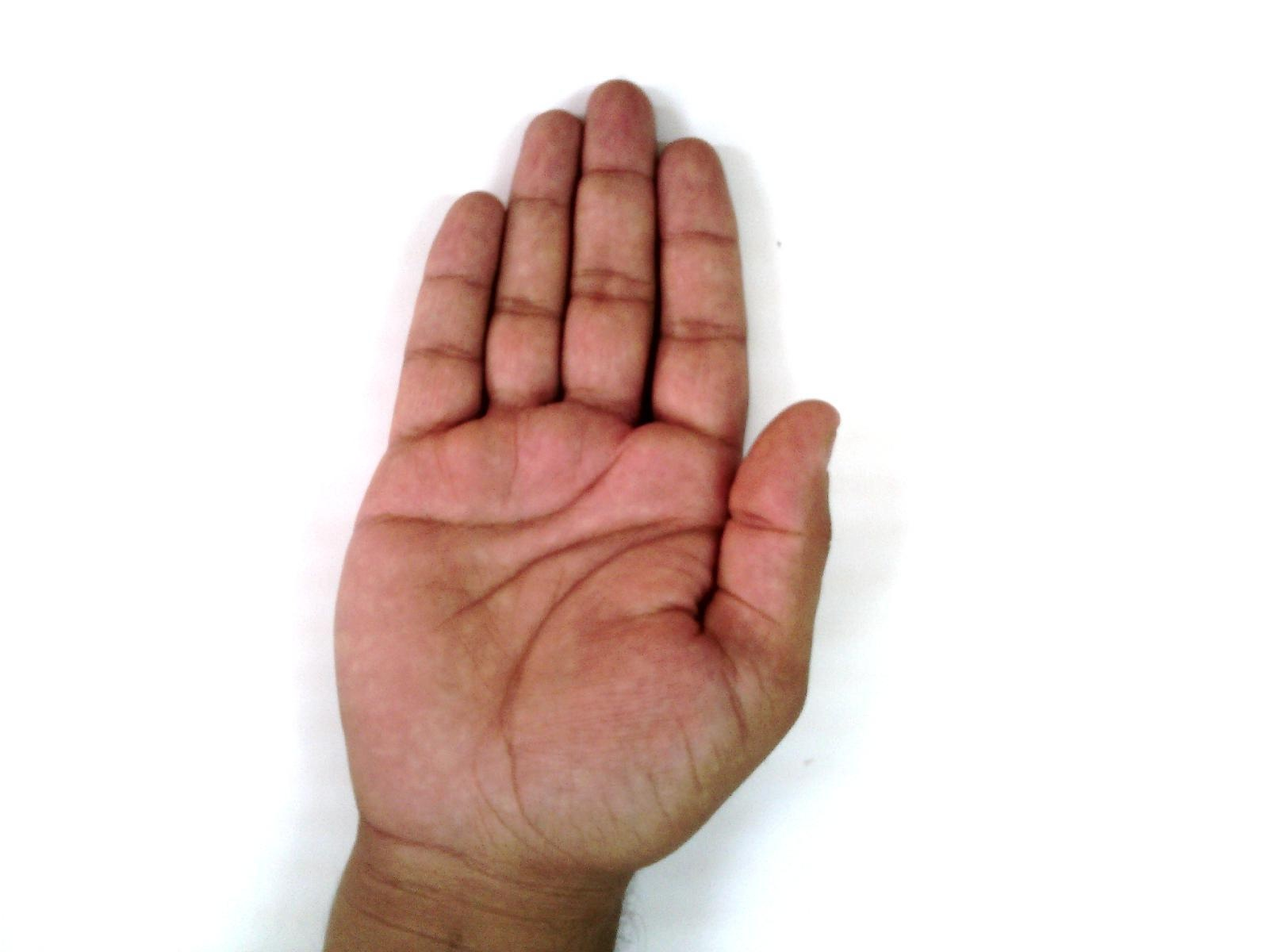open_palm: (323, 79, 844, 898)
